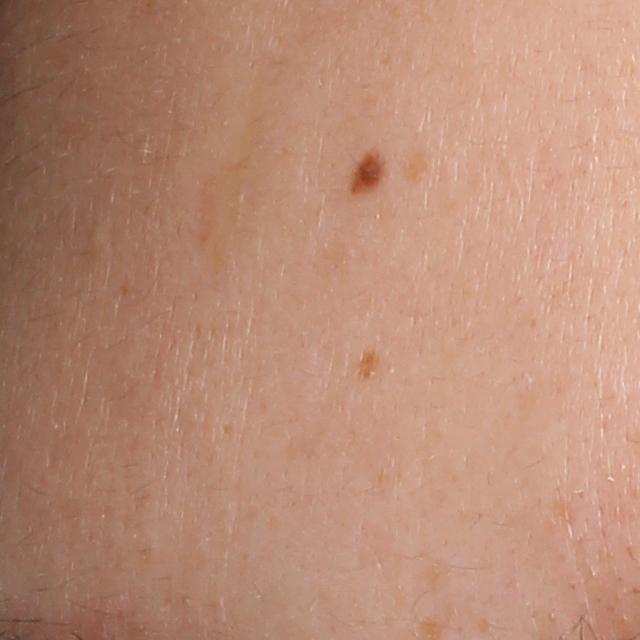nevus: (343, 152, 393, 197)
